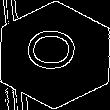O_E: (25, 33, 85, 77)
